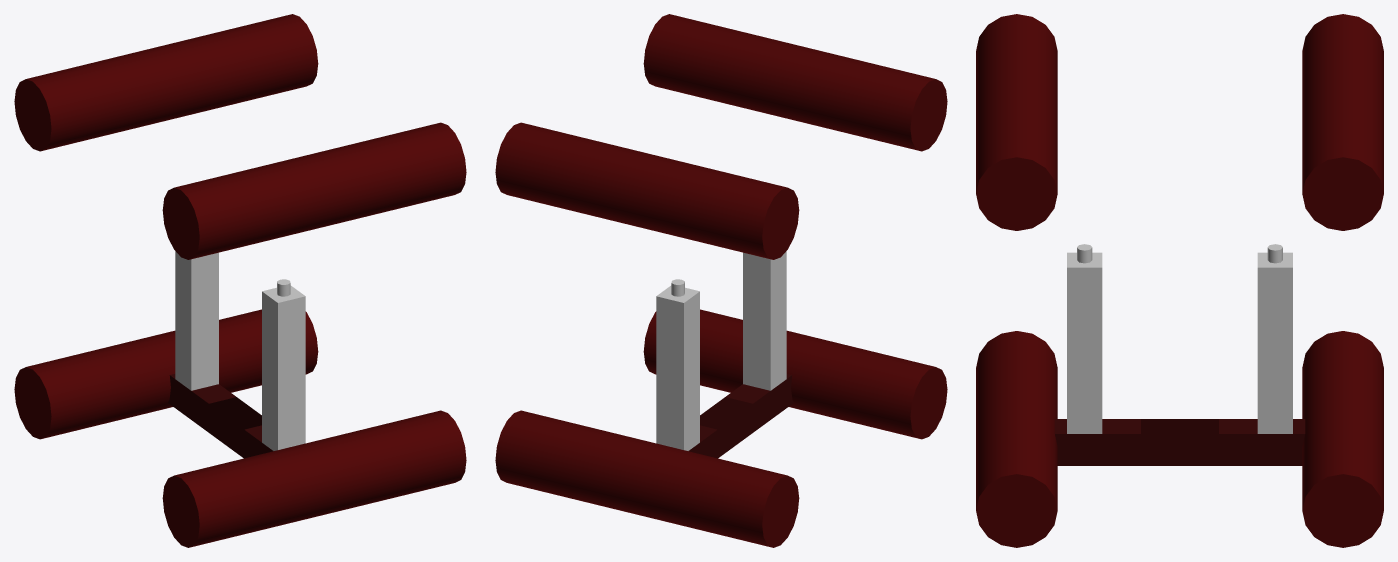
Rendered from quad_brake_track.obj.
3 views of the same model, side by side, from view 1: azimuth 30°, elevation 25°; view 2: azimuth 150°, elevation 25°; view 3: azimuth 270°, elevation 25° (orthographic). The views are drawn at different scales.
Parts seen in each view (by area): view 1: quad_tie.011; view 2: quad_tie.011; view 3: quad_tie.011.
Part boxes in pixels (x1,y1,x2,y2): quad_tie.011: (14, 14, 466, 547); quad_tie.011: (495, 14, 947, 547); quad_tie.011: (976, 14, 1383, 547).
Bounding box in the file's own units: 0.9598 × 1.22 × 1.15.
